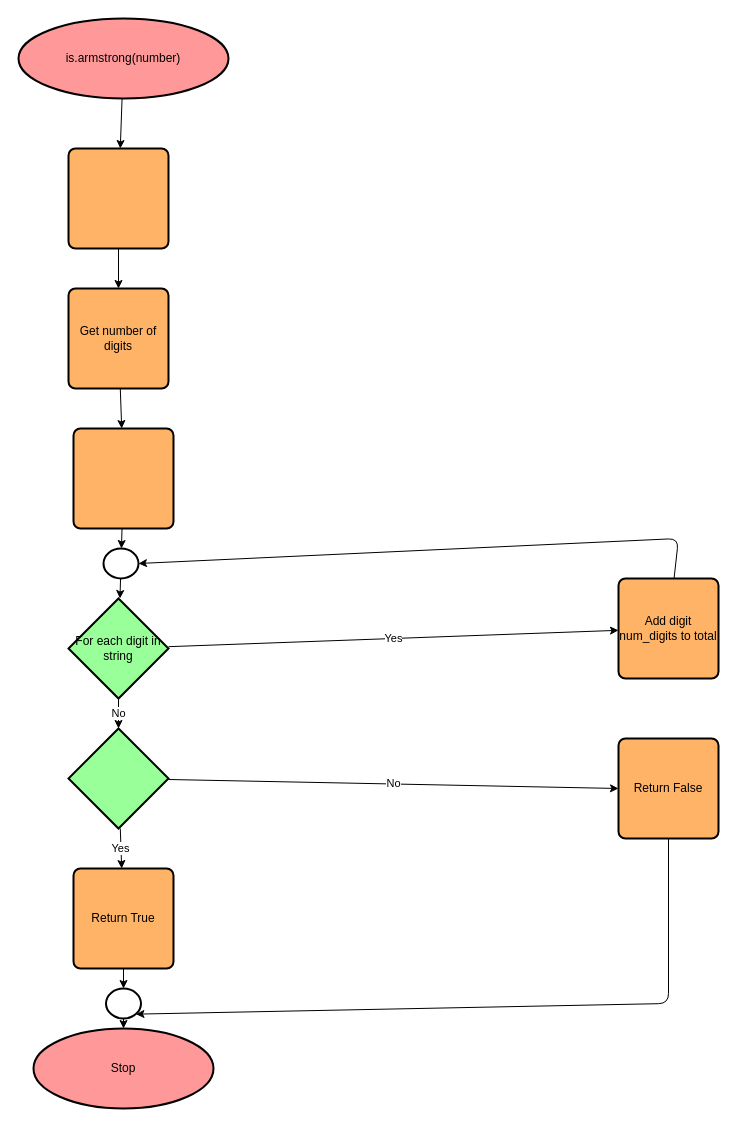
Some shapes in this 736 by 1126 pixel diagram are drawn without their labels. The shapes that lost their labels are listed below. From the top down, each one's centre as x and y in pixels, then its label:
At point (118, 198): "Convert number to string".
At point (123, 478): "Initialize total to 0".
At point (118, 778): "Is total equal to number?".
